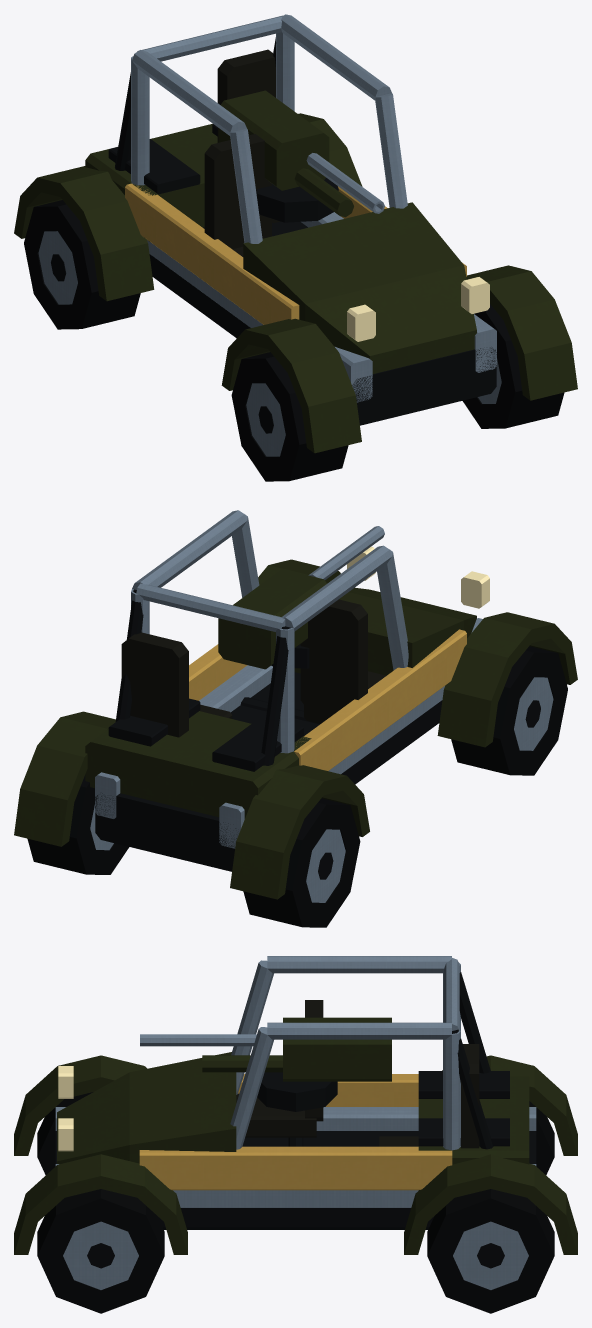
File: scout-lod2.glb
3 renders of one model, top to bottom at view 1: azimuth 30°, elevation 25°; view 2: azimuth 150°, elevation 25°; view 3: azimuth 270°, elevation 25°, orthographic. The views are drawn at different scales.
Visible parts, largest first — view 1: body, turret, wheel_1, wheel_0, wheel_3; view 2: body, wheel_0, wheel_1, turret, wheel_2; view 3: body, wheel_2, wheel_3, turret, wheel_1, wheel_0.
Boxes of the visible parts, x1,y1,x2,y2 form: body: (14, 14, 577, 453); turret: (218, 90, 384, 222); wheel_1: (231, 352, 348, 481); wheel_0: (24, 200, 140, 329); wheel_3: (462, 304, 564, 428); body: (14, 510, 577, 899); wheel_0: (243, 798, 360, 927); wheel_1: (451, 646, 567, 775); turret: (218, 526, 384, 669); wheel_2: (27, 775, 129, 874); body: (14, 956, 577, 1254); wheel_2: (427, 1189, 554, 1313); wheel_3: (37, 1189, 164, 1313); turret: (140, 1017, 391, 1111); wheel_1: (37, 1092, 93, 1174); wheel_0: (529, 1101, 554, 1174).
Bounding box in the file's own units: 1.12 × 1.12 × 2.17.
Materials: 7 (6 with a texture image).
